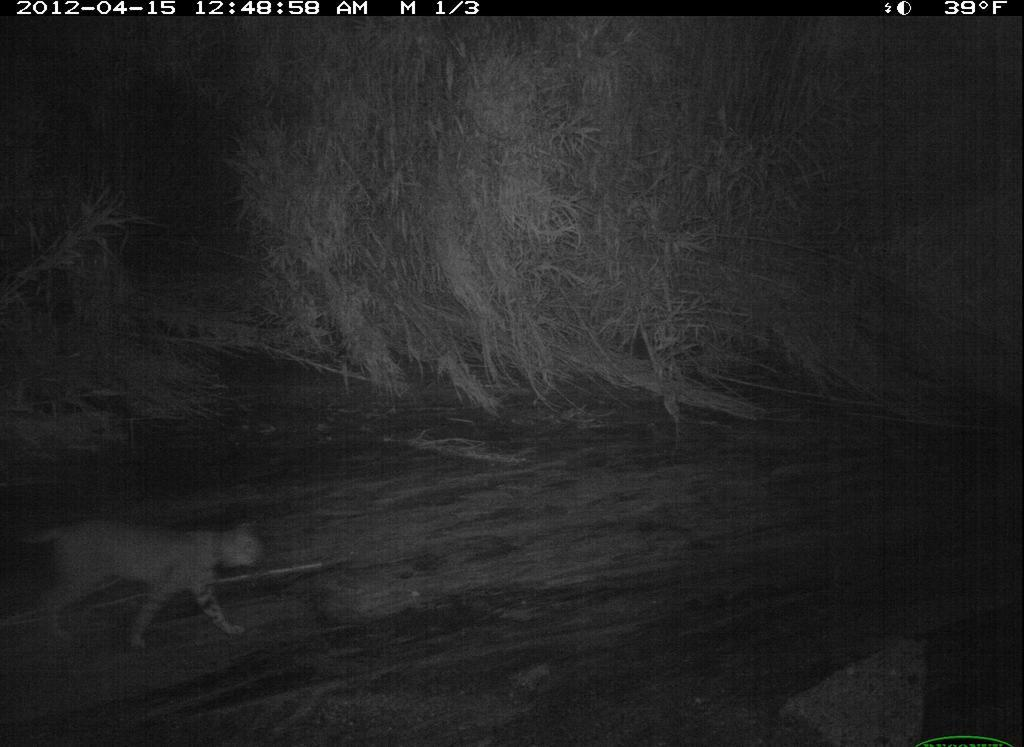bobcat: (7, 497, 297, 658)
